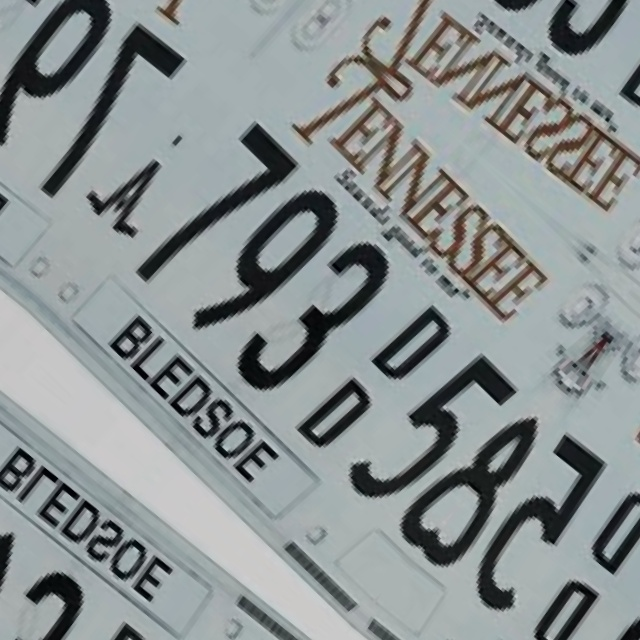ISA: (72, 64, 225, 231), (96, 85, 249, 252)
